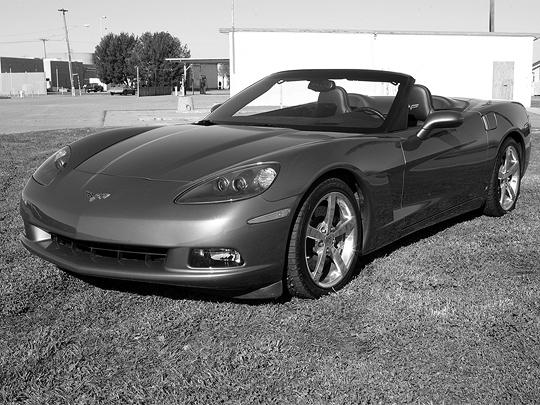car: (20, 69, 532, 304)
